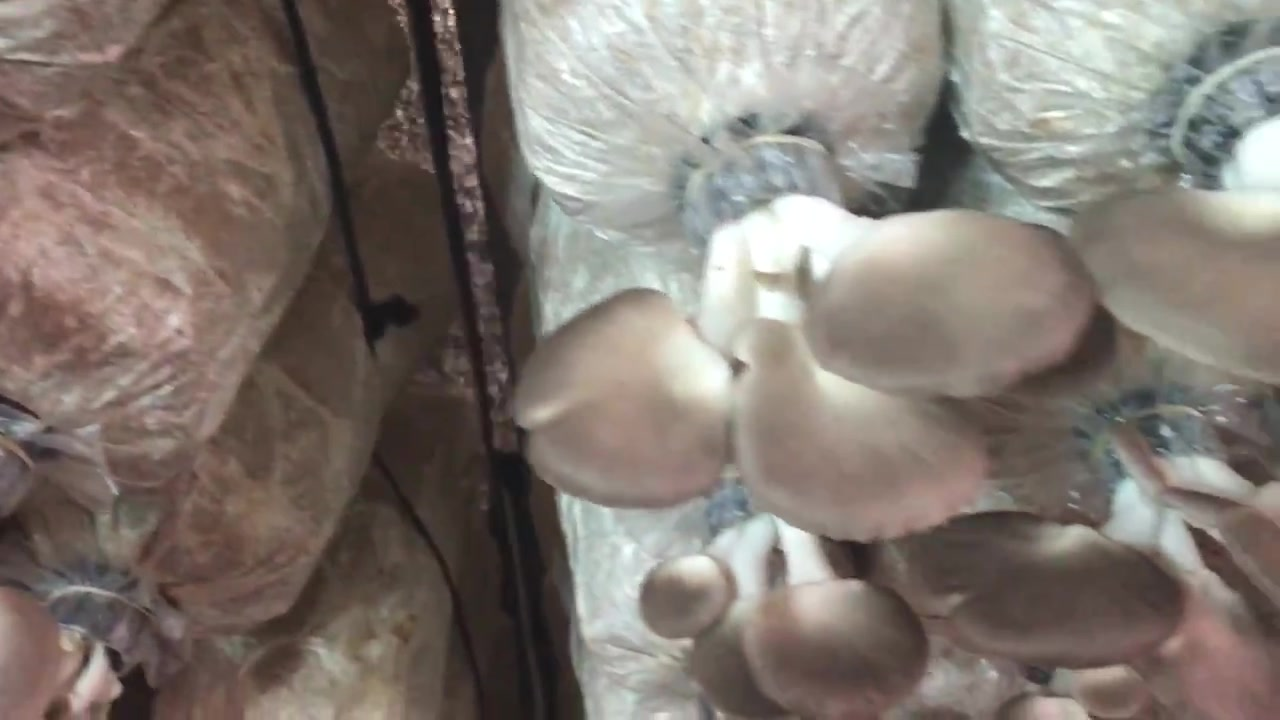nam: (518, 139, 1095, 535), (918, 407, 1280, 720), (639, 474, 925, 720), (1075, 42, 1280, 379)
